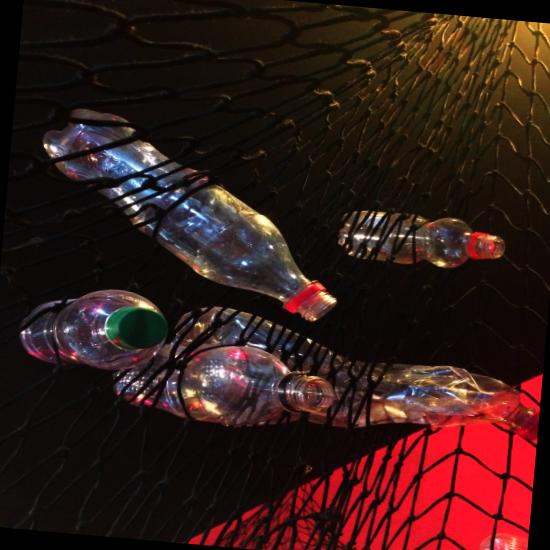Clear plastic bottle: (43, 109, 336, 321), (170, 306, 537, 440), (112, 343, 334, 425), (19, 289, 167, 370), (337, 210, 504, 267), (479, 533, 528, 550)
Plastic bottle cap: (109, 307, 167, 350)
